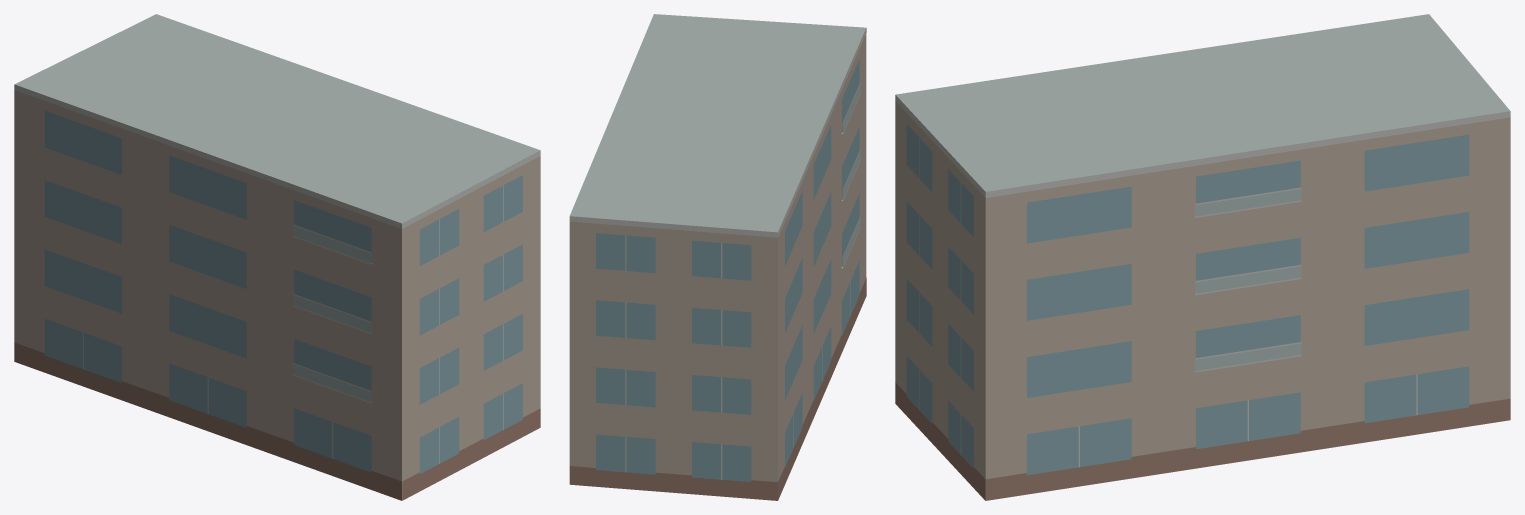
File: survey-upis-32613820.glb
3 views of the same model, side by side, from view 1: azimuth 30°, elevation 25°; view 2: azimuth 150°, elevation 25°; view 3: azimuth 270°, elevation 25° (orthographic). The views are drawn at different scales.
Parts seen in each view (by area): view 1: survey-upis-32613820.tmp; view 2: survey-upis-32613820.tmp; view 3: survey-upis-32613820.tmp.
Part boxes in pixels (box(x1,y1,x2,y2)): survey-upis-32613820.tmp: box(14, 14, 540, 500); survey-upis-32613820.tmp: box(569, 14, 866, 500); survey-upis-32613820.tmp: box(895, 14, 1510, 500).
Bounding box in the file's own units: 15.07 × 12.2 × 22.03.
